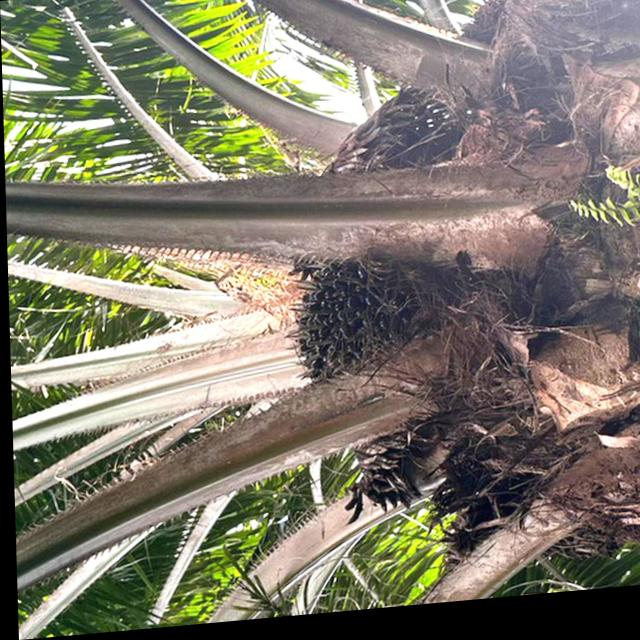unripe: (270, 235, 462, 410)
